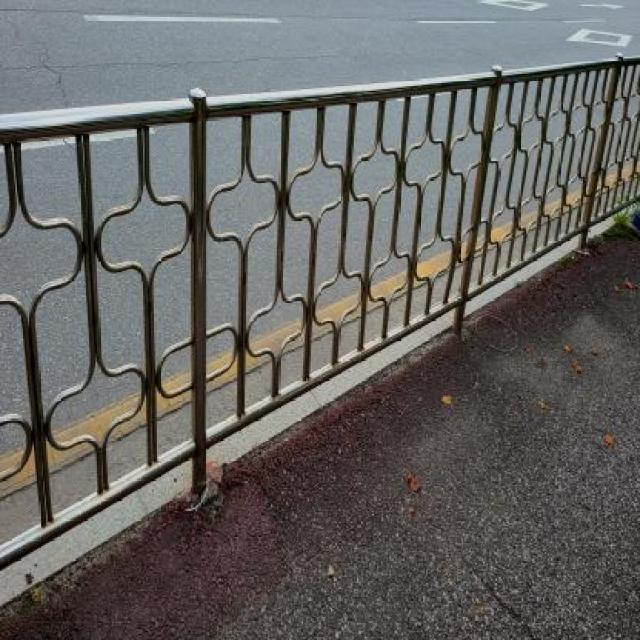fence: (7, 81, 506, 586), (468, 32, 640, 346)
